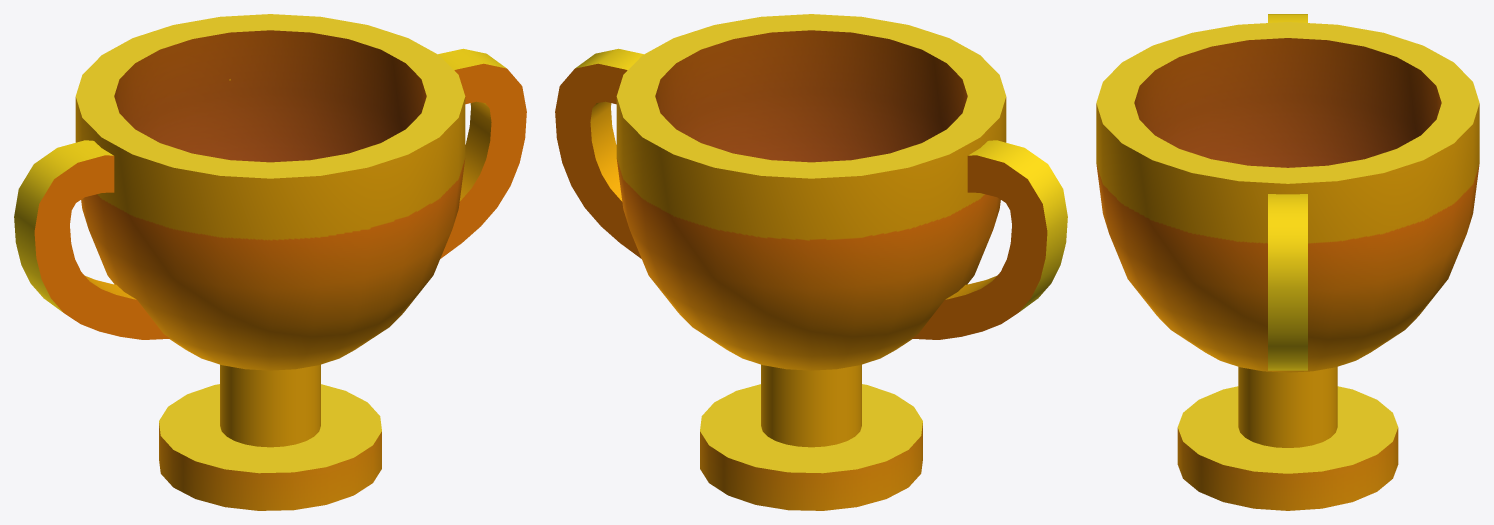
Rendered from Cup.fbx.
3 renders of one model, left to right at view 1: azimuth 30°, elevation 25°; view 2: azimuth 150°, elevation 25°; view 3: azimuth 270°, elevation 25°, orthographic.
Parts seen in each view (by area): view 1: Cup; view 2: Cup; view 3: Cup.
Part boxes in pixels (left/top/right/bottom): Cup: left=14, top=14, right=526, bottom=510; Cup: left=555, top=14, right=1067, bottom=510; Cup: left=1096, top=14, right=1479, bottom=510.
Size of the model in its own units: 384 by 274 by 263.
